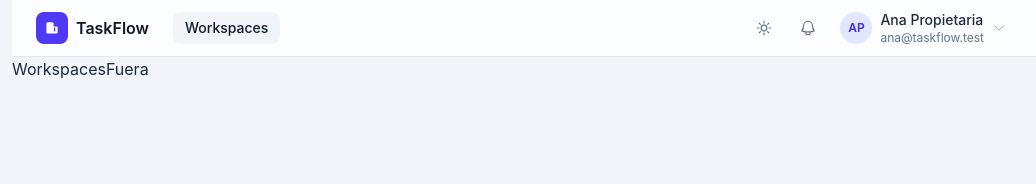
Layout › opens a menu with the settings and logout actions
Click the button with aria-label "Menú de Ana Propietaria" at (923, 28), box [834, 6, 1012, 50]
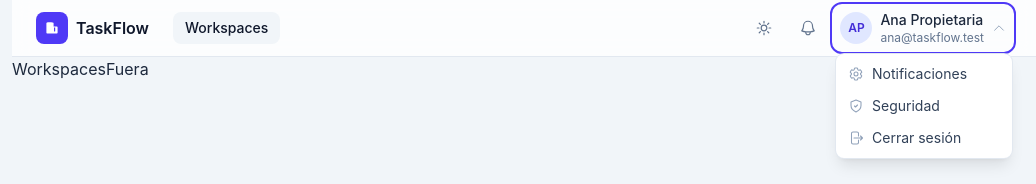
Expected: the number of menu items is 3
Click the menu item "Cerrar sesión" at (924, 138), box [836, 122, 1012, 154]
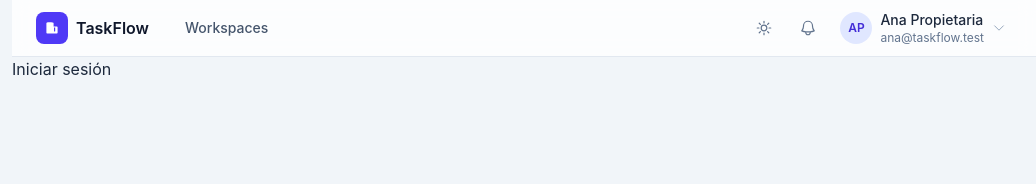
Expected: the text "Iniciar sesión" is shown, [12, 59, 111, 79]
